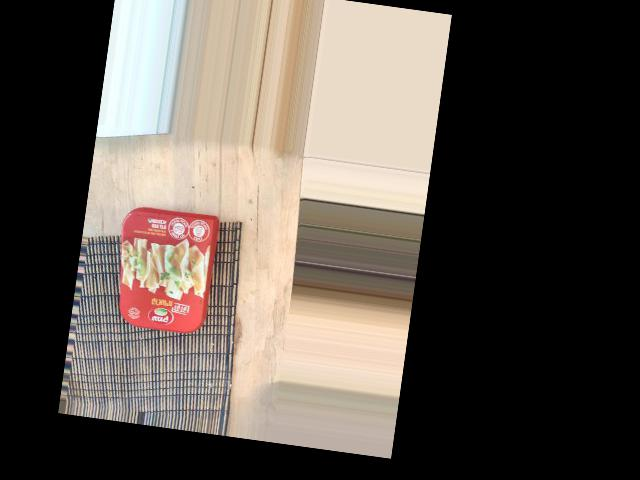cheese: (56, 274, 200, 379)
